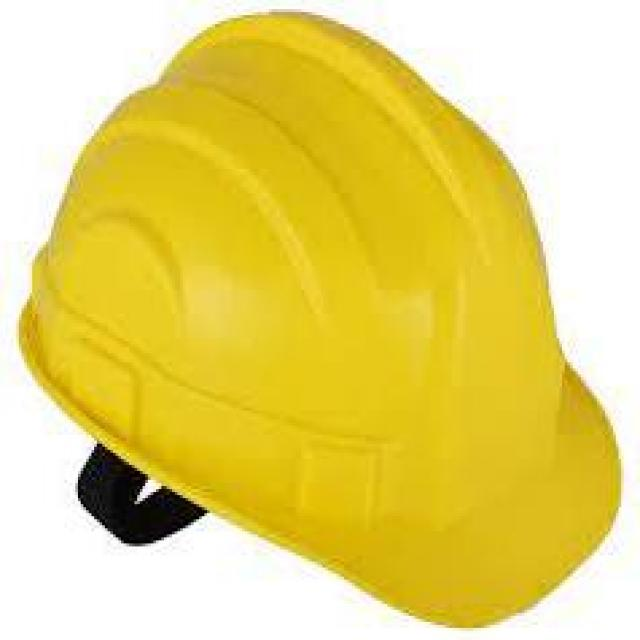Safety-Helmet: (21, 0, 626, 607)
